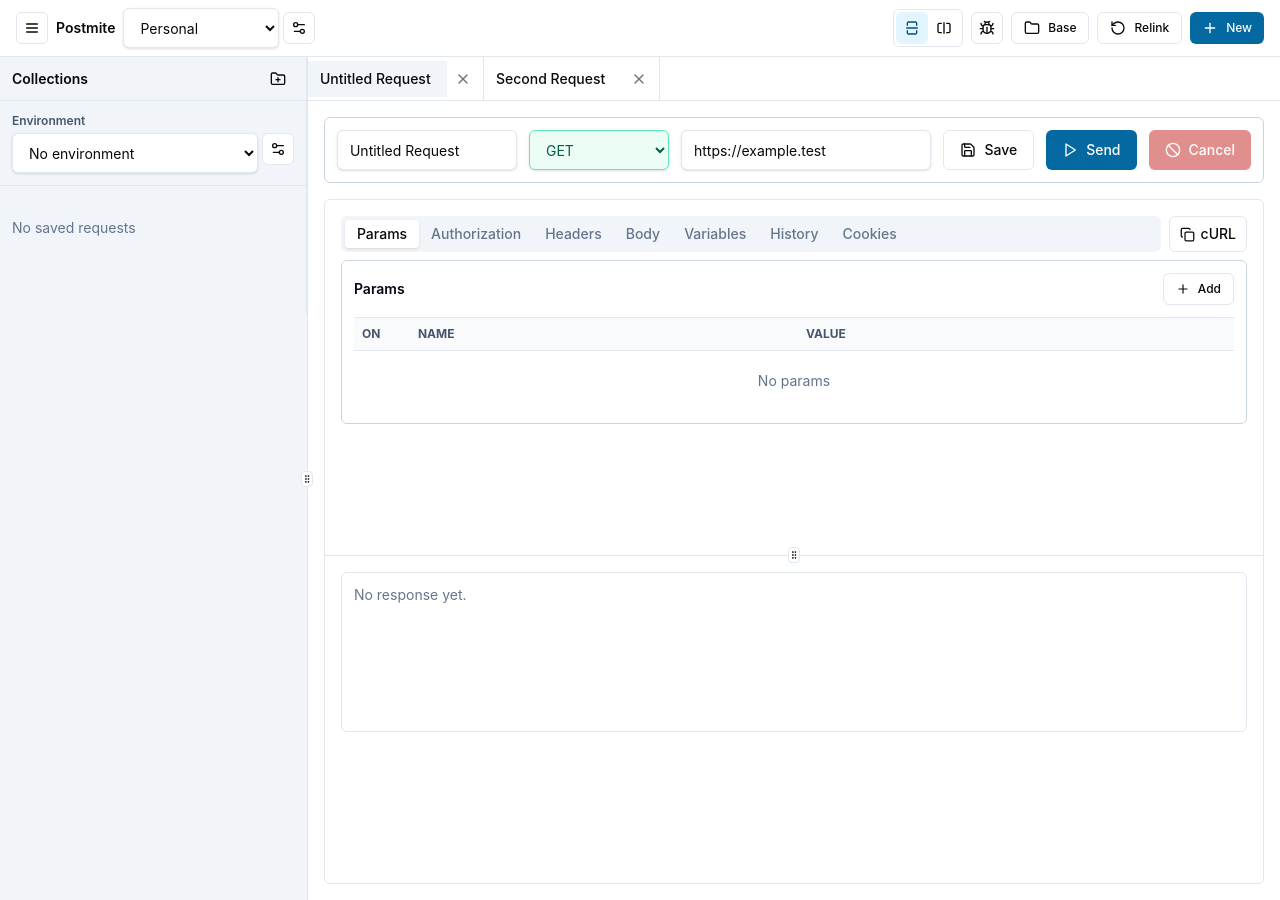
Test case: App request editor › keeps execution responses isolated by tab
The width and height of the screenshot is (1280, 900).
Click the button "Send": (1091, 150) top-left (1046, 130), bottom-right (1136, 170)
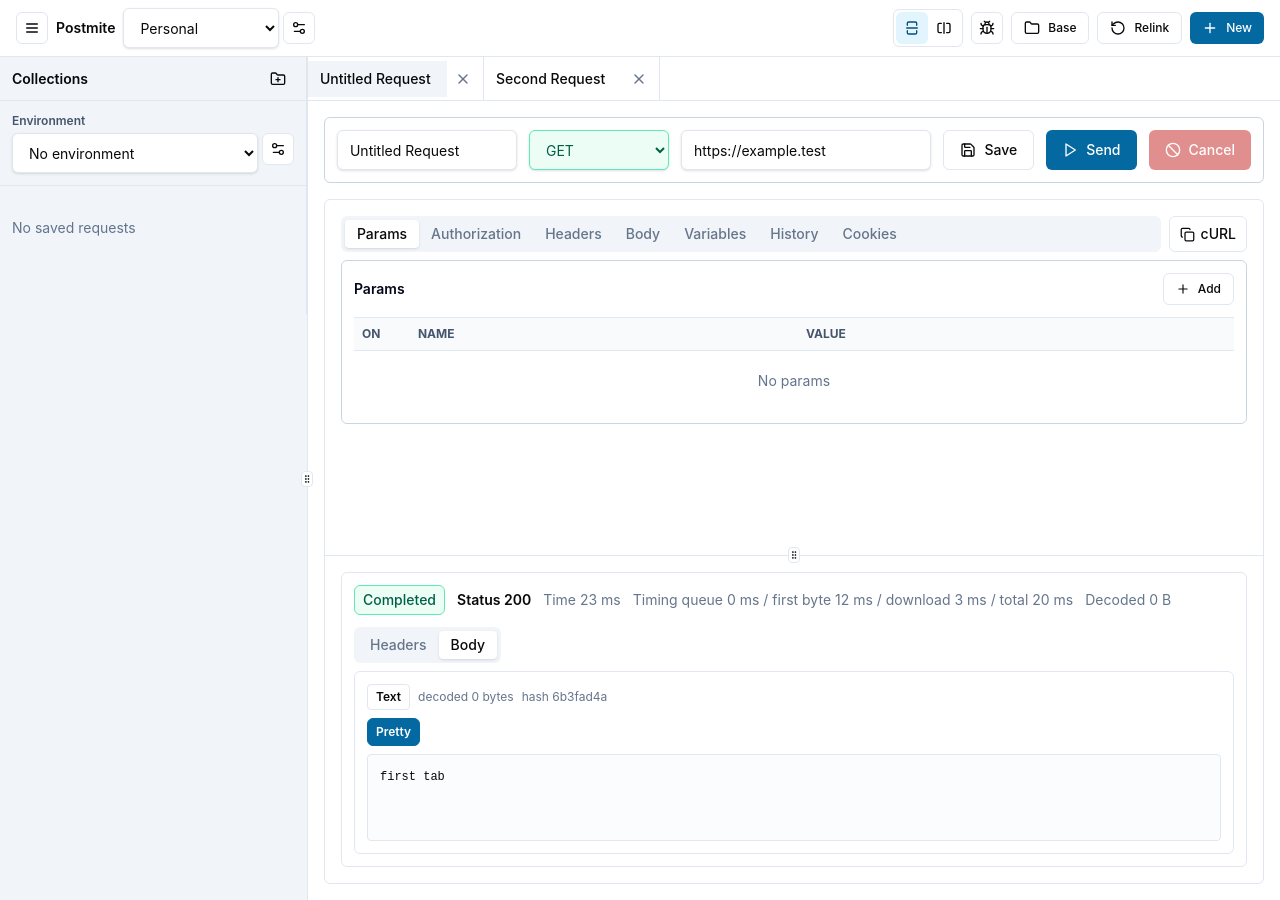
Click the button "Second Request": (554, 78) top-left (484, 60), bottom-right (623, 96)
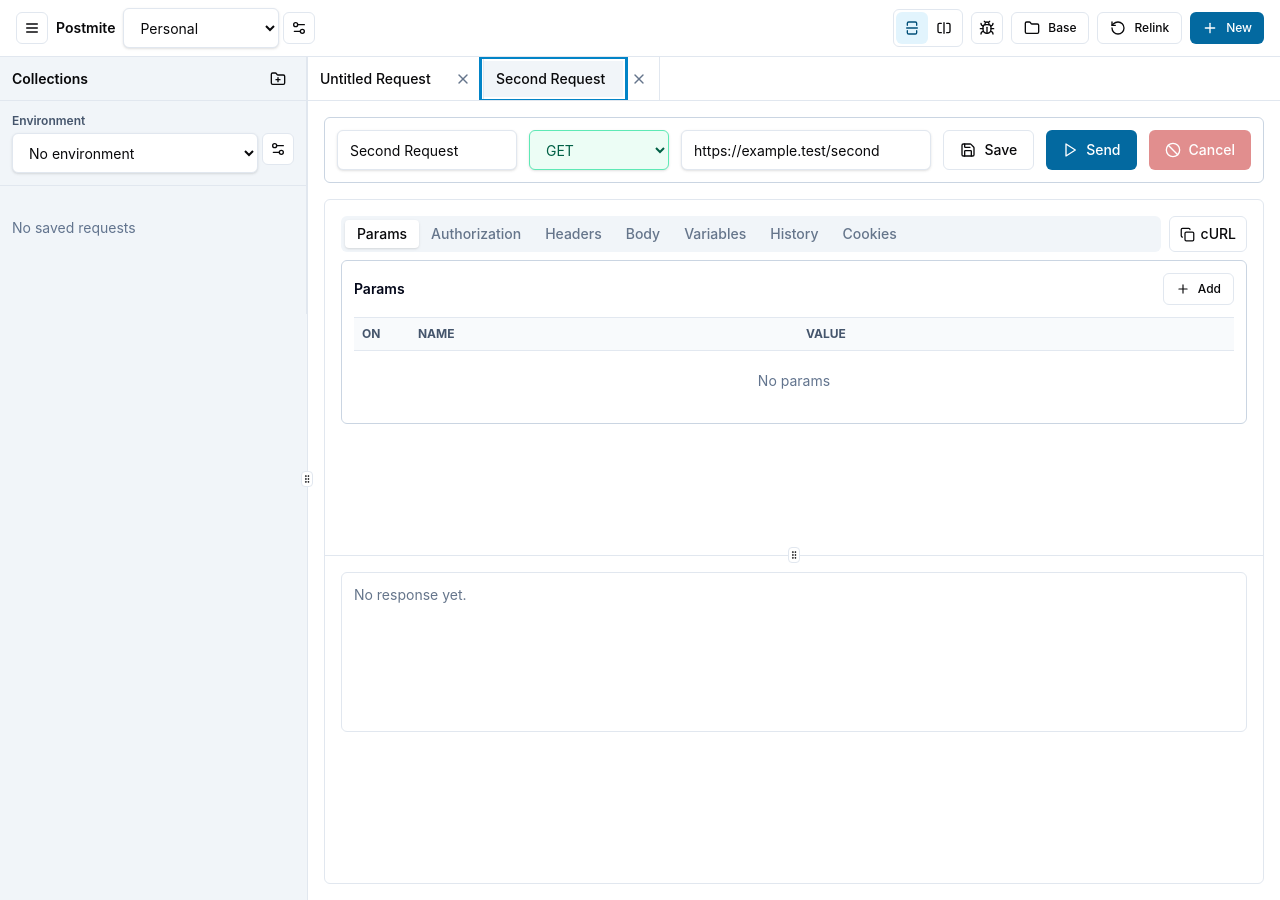
Expected: the text "first tab" is gone
Click the button "Send": (1091, 150) top-left (1046, 130), bottom-right (1136, 170)
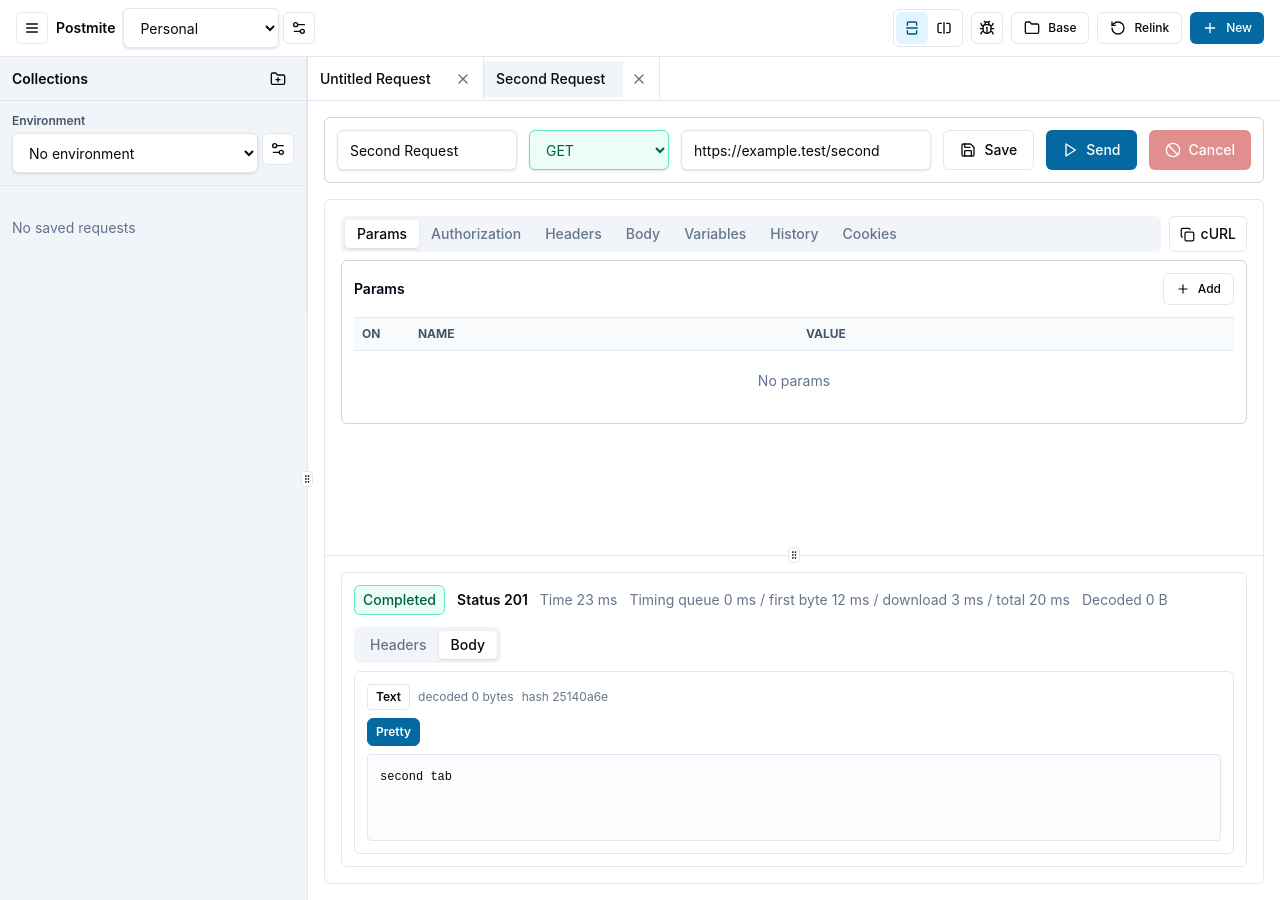
Expected: the text "second tab" is shown, top-left (367, 754), bottom-right (1221, 841)
Click the button "Untitled Request": (378, 78) top-left (308, 60), bottom-right (447, 96)
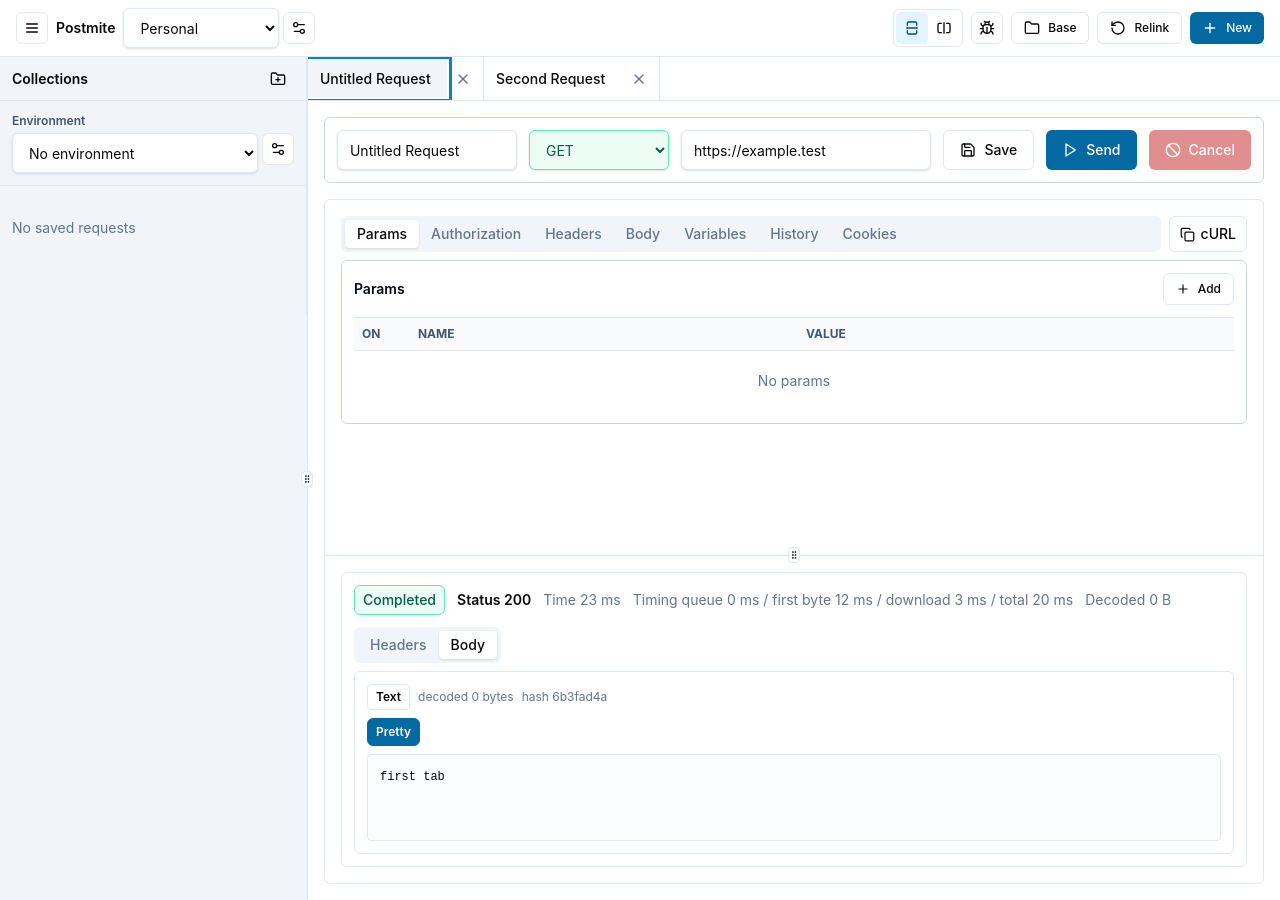
Expected: the text "first tab" is shown, top-left (367, 754), bottom-right (1221, 841)
Expected: the text "second tab" is gone
